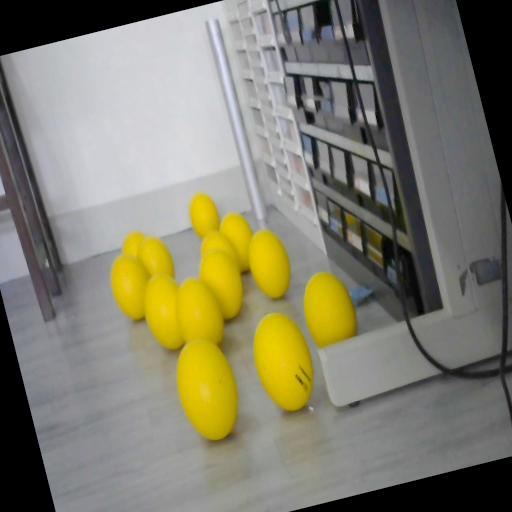FUEL: (166, 332, 247, 446), (243, 304, 324, 417), (294, 266, 362, 352), (168, 272, 230, 354), (136, 269, 194, 354), (193, 242, 252, 324), (241, 224, 298, 302), (104, 248, 158, 324), (216, 208, 262, 274), (194, 226, 242, 280), (134, 231, 178, 286), (185, 189, 224, 240), (119, 229, 151, 263)
